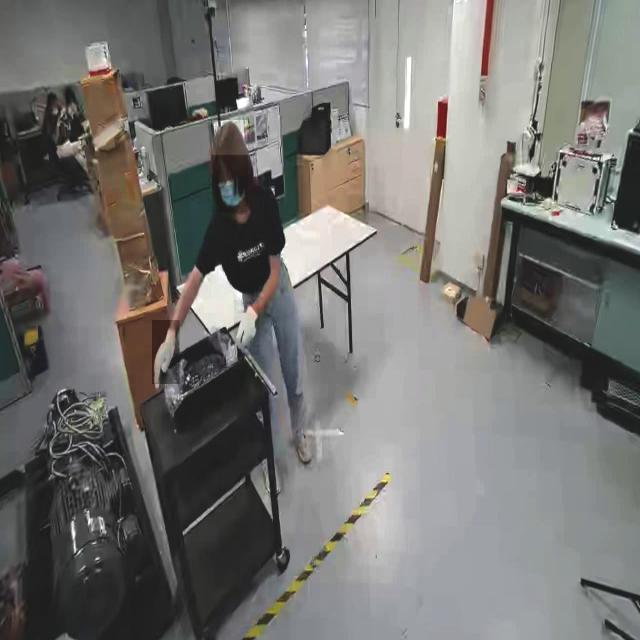face_mask: (212, 156, 248, 212)
hand_glove: (152, 320, 180, 385), (233, 299, 260, 356)
head_nohelmet: (212, 120, 248, 156)
person: (150, 118, 326, 495)
shoes: (291, 416, 315, 466)
